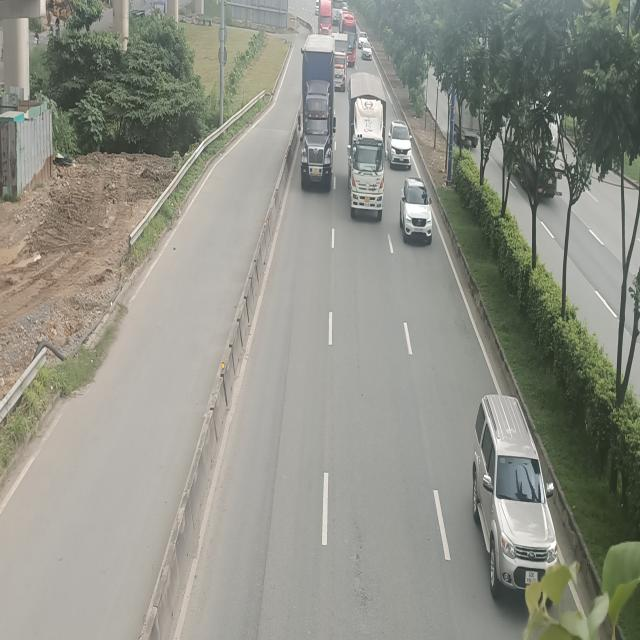car: (474, 392, 562, 600), (400, 177, 434, 244), (388, 121, 412, 170)
container: (298, 38, 334, 194)
truck: (348, 72, 386, 220)
